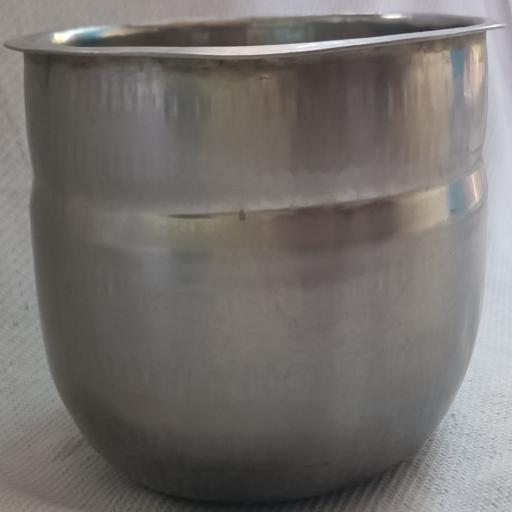vessel: (8, 16, 497, 501)
